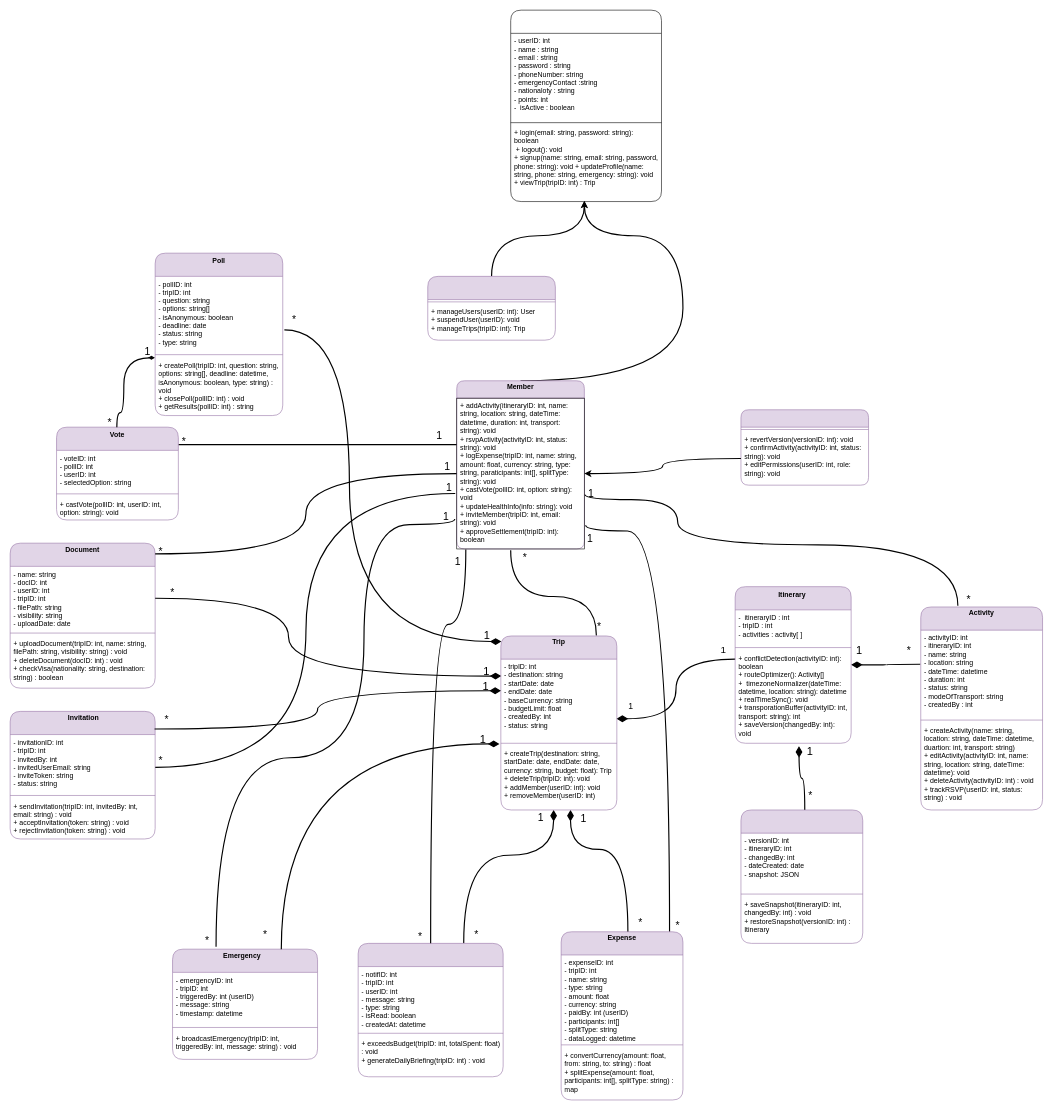
Image size: 1053x1112. Some labels were removed from this diagram. The shapes that lost their labels are listed below. From the top down, each one's box as (x1, y1, x2, y2) in pixels, then its label:
(510, 10, 661, 202): {abstract} User
(427, 276, 555, 340): Admin
(740, 409, 869, 485): TripLeader
(740, 809, 863, 943): ItineraryVersion
(358, 943, 503, 1077): Notification
